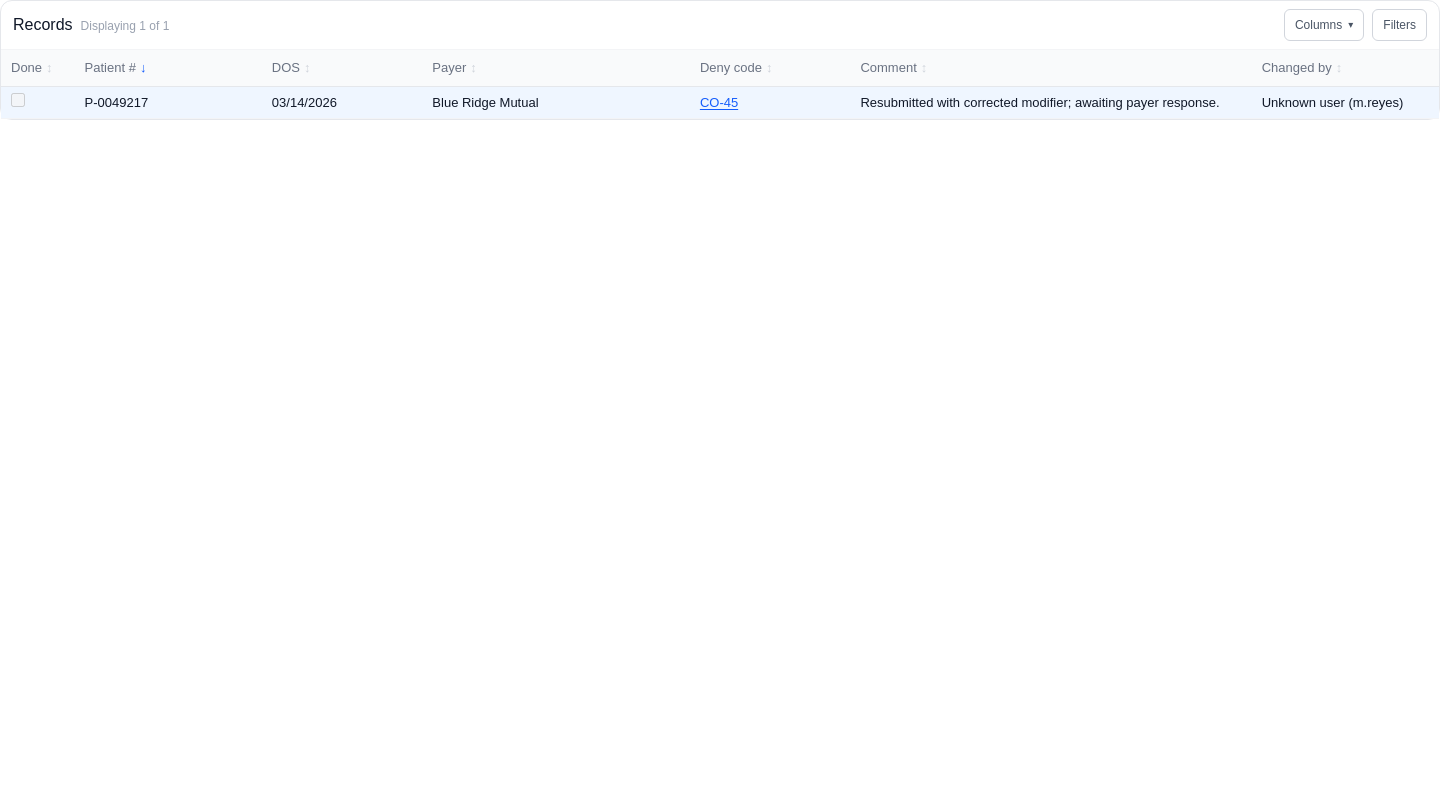
deny-code modal triggers › opens a definition from the grid without selecting its row
The image size is (1440, 810).
Click the button "CO-45" at {"x": 719, "y": 102}, box [700,92,738,112]
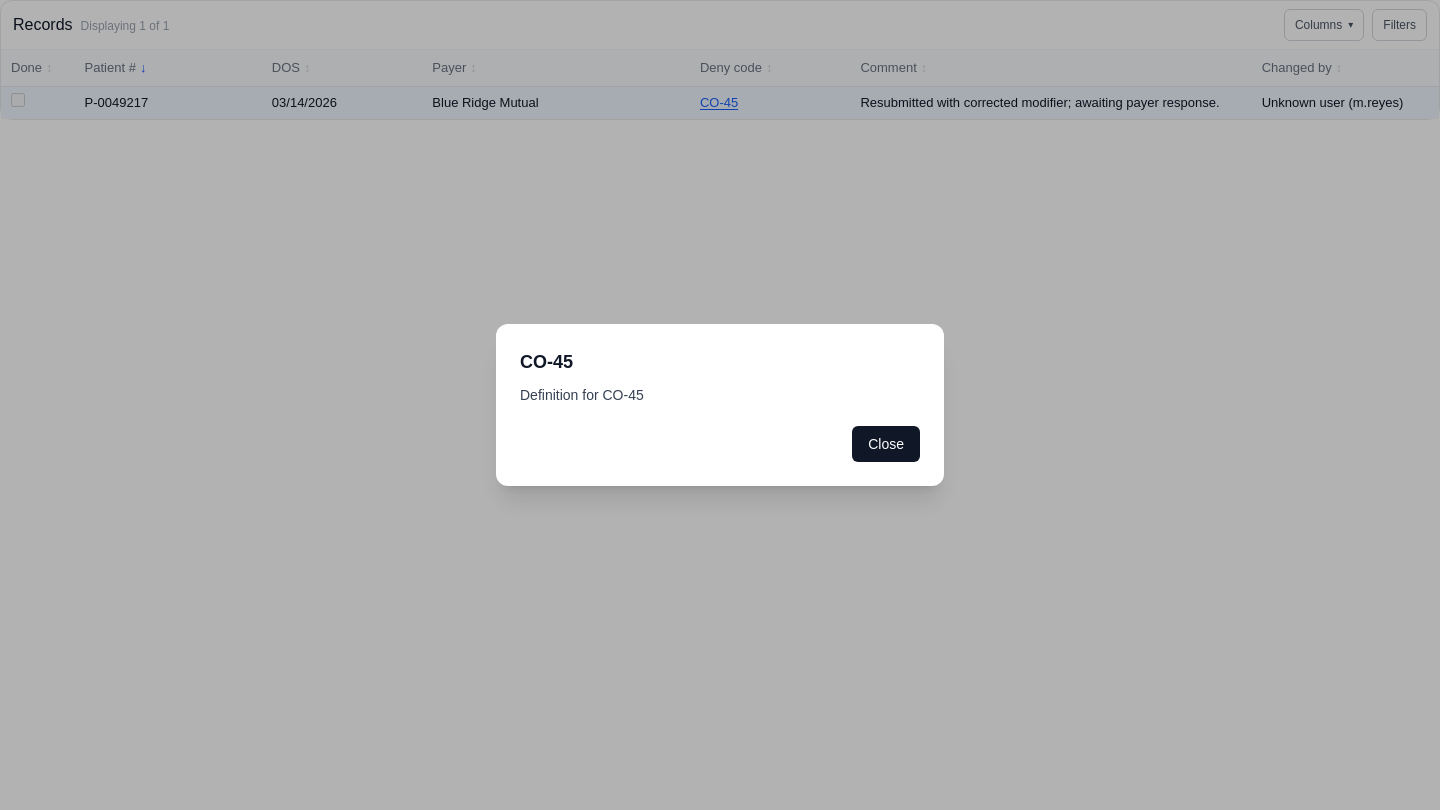
expect the heading "CO-45" is shown: met, box [520,352,573,372]
